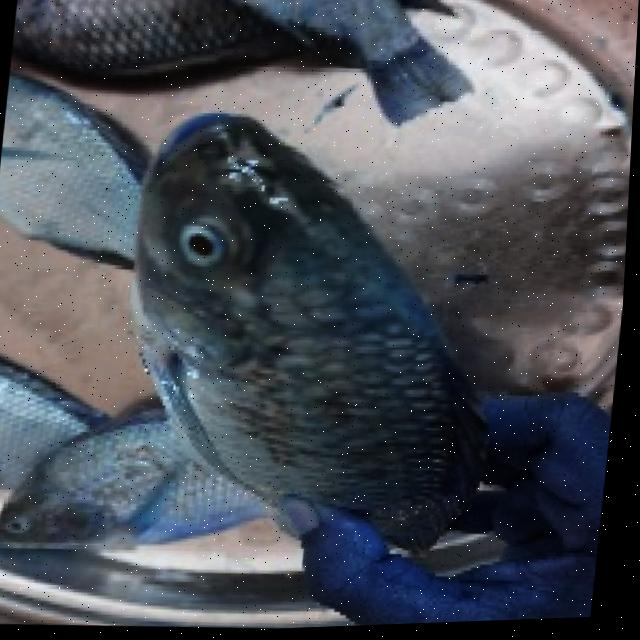Fresh: (82, 84, 440, 471), (171, 205, 243, 278)
